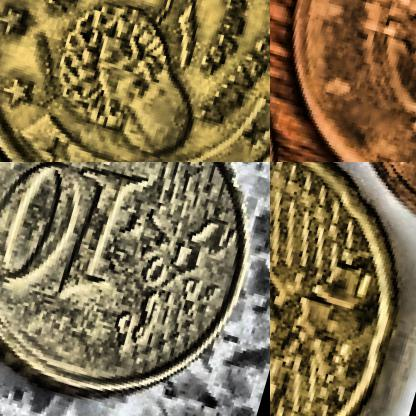coin: (0, 162, 269, 415), (0, 0, 269, 161), (270, 162, 415, 415), (270, 0, 415, 161)
